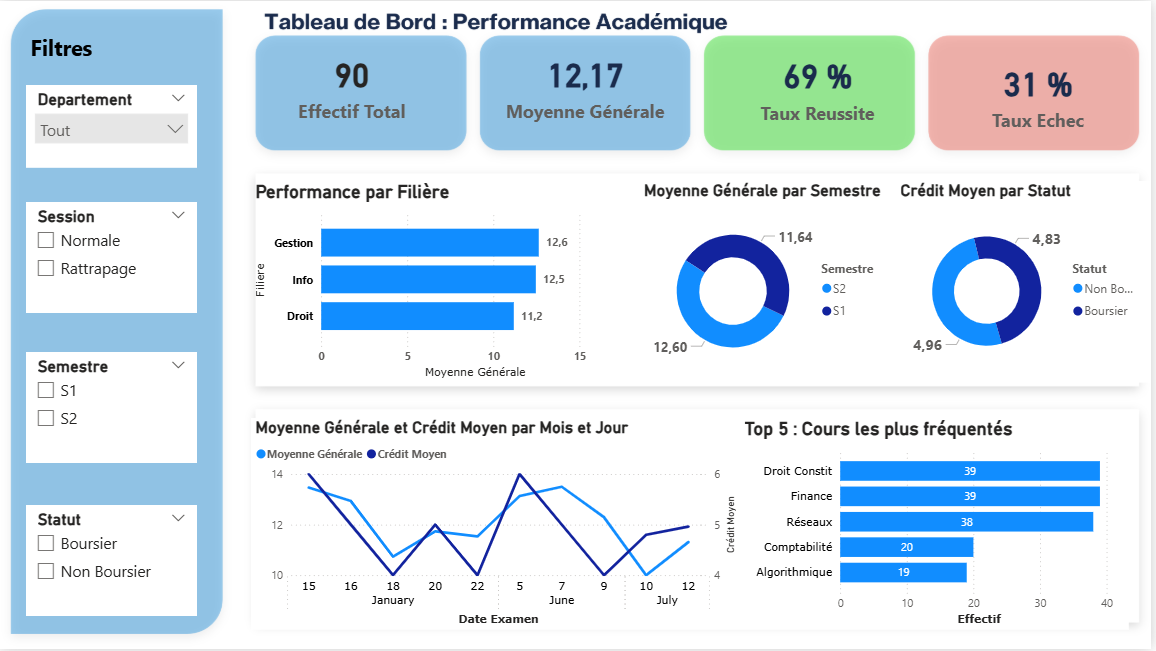

This screenshot's page, from the dashboard's own definition file:
{"tool":"powerbi","page":{"name":"Performance_Academique","canvas":[1280,720],"ordinal":0},"visuals":[{"type":"card","fields":{"Values":["F_resultats.Moyenne Générale"]},"box":[555,45,191.7,95],"z":0},{"type":"card","fields":{"Values":["F_resultats.Nombre d'Étudiants"]},"box":[296.7,45,190,95],"z":1000},{"type":"card","fields":{"Values":["F_resultats.Taux Echec"]},"box":[1068.3,55,171.7,95],"z":2000},{"type":"card","fields":{"Values":["F_resultats.Taux Reussite"]},"box":[823.3,46.7,171.7,95],"z":3000},{"type":"barChart","title":"Performance par Filière","fields":{"Category":["D_cours.Filiere"],"Y":["F_resultats.Moyenne Générale"]},"box":[280,200,432,224],"z":4000},{"type":"barChart","title":"Top 5 : Cours les plus fréquentés","fields":{"Category":["D_cours.Nom_Cours","D_cours.Niveau"],"Y":["CountNonNull(F_resultats.ID_Etudiant)"]},"box":[823.3,463.3,431.7,235],"z":5000},{"type":"lineChart","title":"Moyenne Générale et Crédit Moyen par Mois et Jour","fields":{"Y2":["Avg(F_resultats.Credits)"],"Y":["F_resultats.Moyenne Générale"],"Category":["F_resultats.Date_Examen.Variation.Date Hierarchy.Month","F_resultats.Date_Examen.Variation.Date Hierarchy.Day"]},"box":[280,463.3,543.3,235],"z":6000},{"type":"slicer","fields":{"Values":["D_temps.Session"]},"box":[30,223.3,190,123.3],"z":7000},{"type":"textbox","box":[30,30,123.3,48.3],"z":8000},{"type":"slicer","fields":{"Values":["D_temps.Semestre"]},"box":[30,390,190,123.3],"z":9000},{"type":"slicer","fields":{"Values":["D_etudiant.Statut"]},"box":[30,560,190,123.3],"z":10000},{"type":"slicer","fields":{"Values":["D_cours.Departement"]},"box":[30,93.3,190,91.7],"z":11000},{"type":"donutChart","title":"Crédit Moyen par Statut","fields":{"Y":["Avg(F_resultats.Credits)"],"Category":["D_etudiant.Statut"]},"box":[996,200,284,224],"z":12000},{"type":"donutChart","title":"Moyenne Générale par Semestre","fields":{"Category":["D_temps.Semestre"],"Y":["F_resultats.Moyenne Générale"]},"box":[712,200,284,224],"z":13000}]}

Visuals, with their boxes in screenshot pixels (x1, y1, x2, y2), scaled from the page's 1280x720 canvas onto the 1156x651 screenshot:
card - F_resultats.Moyenne Générale: (left=501, top=41, right=674, bottom=127)
card - F_resultats.Nombre d'Étudiants: (left=268, top=41, right=440, bottom=127)
card - F_resultats.Taux Echec: (left=965, top=50, right=1120, bottom=136)
card - F_resultats.Taux Reussite: (left=744, top=42, right=899, bottom=128)
"Performance par Filière" barChart: (left=253, top=181, right=643, bottom=383)
"Top 5 : Cours les plus fréquentés" barChart: (left=744, top=419, right=1133, bottom=631)
"Moyenne Générale et Crédit Moyen par Mois et Jour" lineChart: (left=253, top=419, right=744, bottom=631)
slicer - D_temps.Session: (left=27, top=202, right=199, bottom=313)
textbox: (left=27, top=27, right=138, bottom=71)
slicer - D_temps.Semestre: (left=27, top=353, right=199, bottom=464)
slicer - D_etudiant.Statut: (left=27, top=506, right=199, bottom=618)
slicer - D_cours.Departement: (left=27, top=84, right=199, bottom=167)
"Crédit Moyen par Statut" donutChart: (left=900, top=181, right=1155, bottom=383)
"Moyenne Générale par Semestre" donutChart: (left=643, top=181, right=900, bottom=383)
